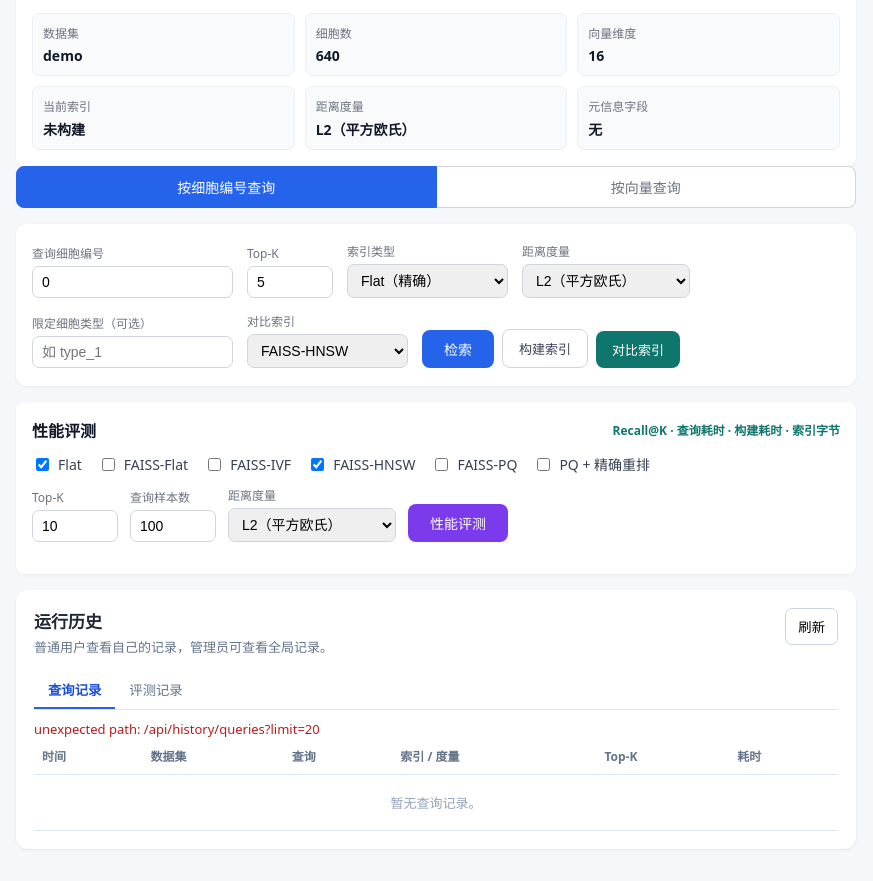
Test: App authentication gate › shows the paired PQ rerank recall, latency, and index-size tradeoff
(page scrolled)
Click the checkbox labelled "Flat": (42, 464) [36, 458, 49, 470]
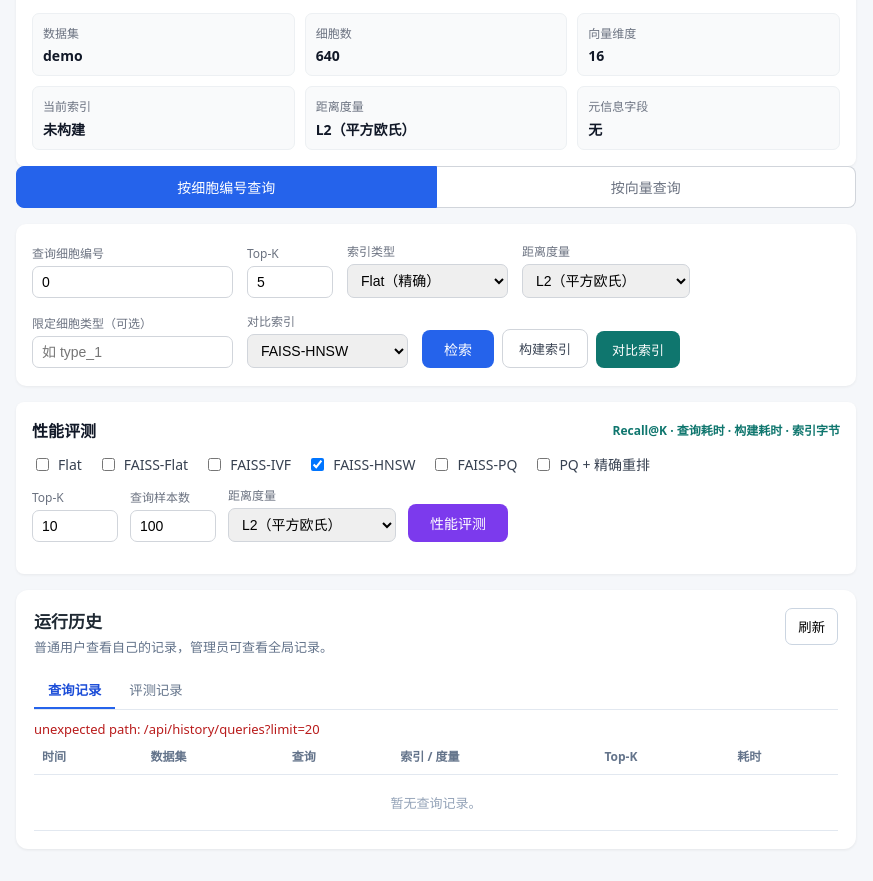
Click the checkbox labelled "FAISS-HNSW": (318, 464) [311, 458, 324, 470]
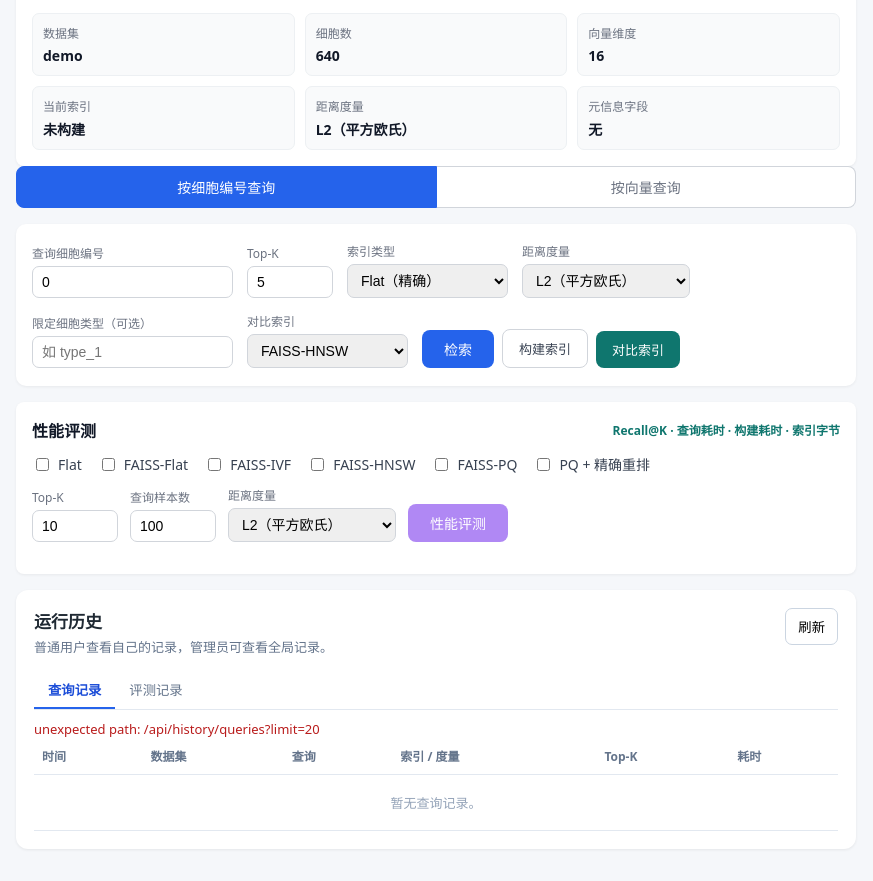
Click the checkbox labelled "FAISS-PQ": (442, 464) [435, 458, 448, 470]
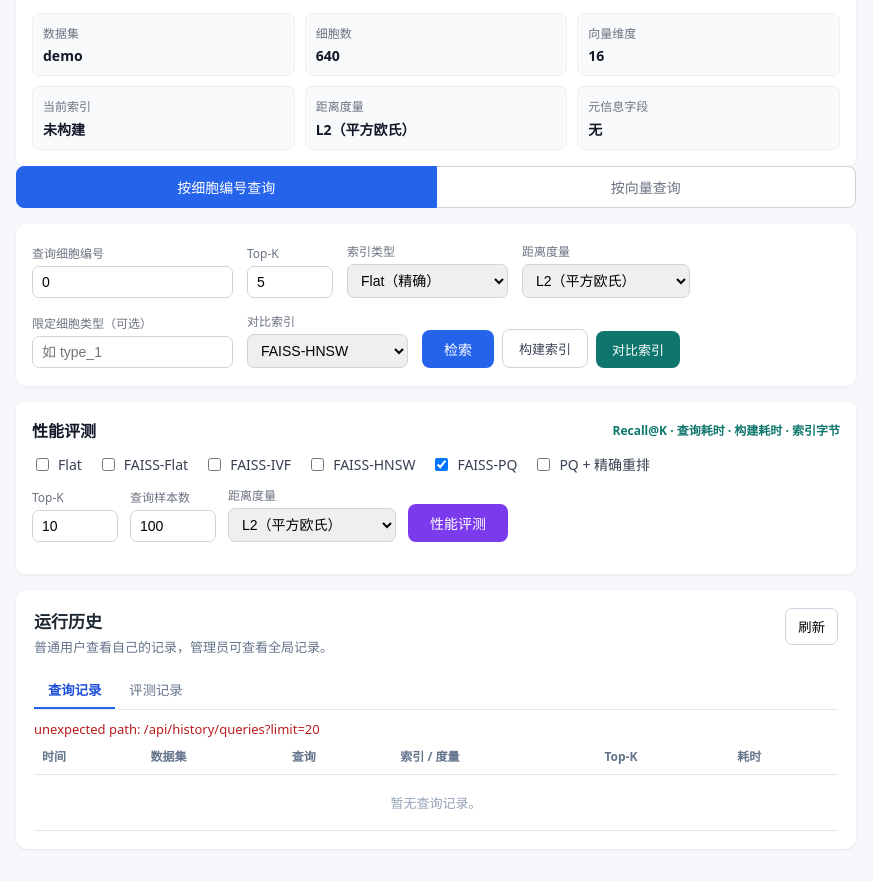
Click the checkbox labelled "PQ + 精确重排": (544, 464) [537, 458, 550, 470]
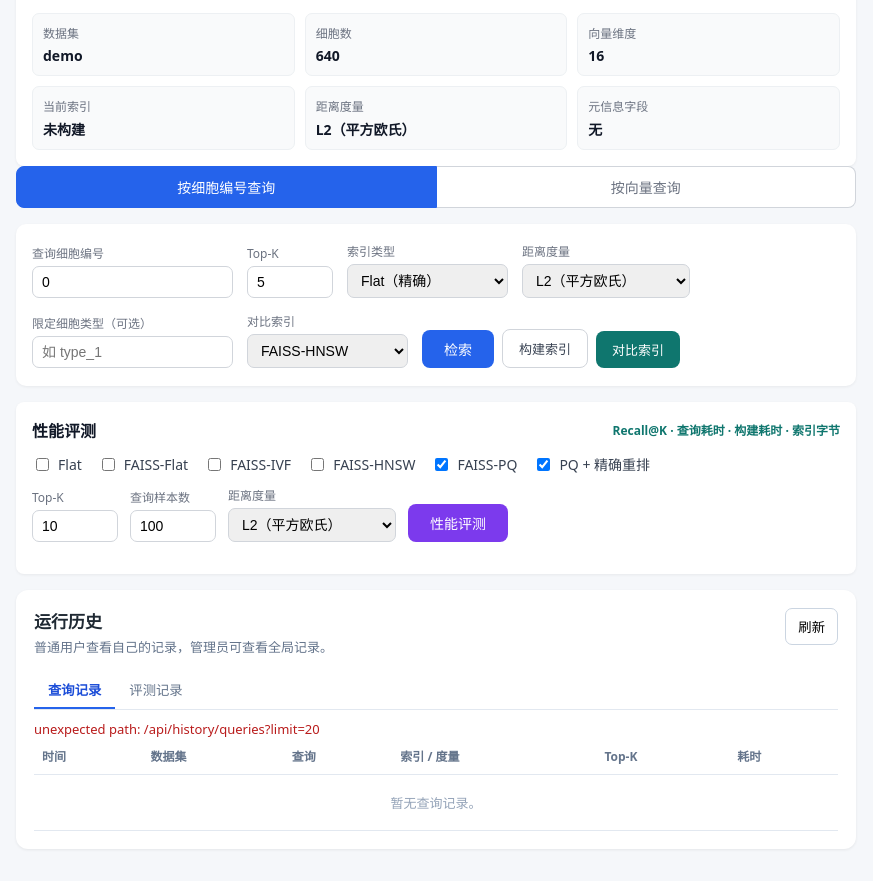
Click the button with class "btn-eval": (458, 523) [408, 504, 508, 542]
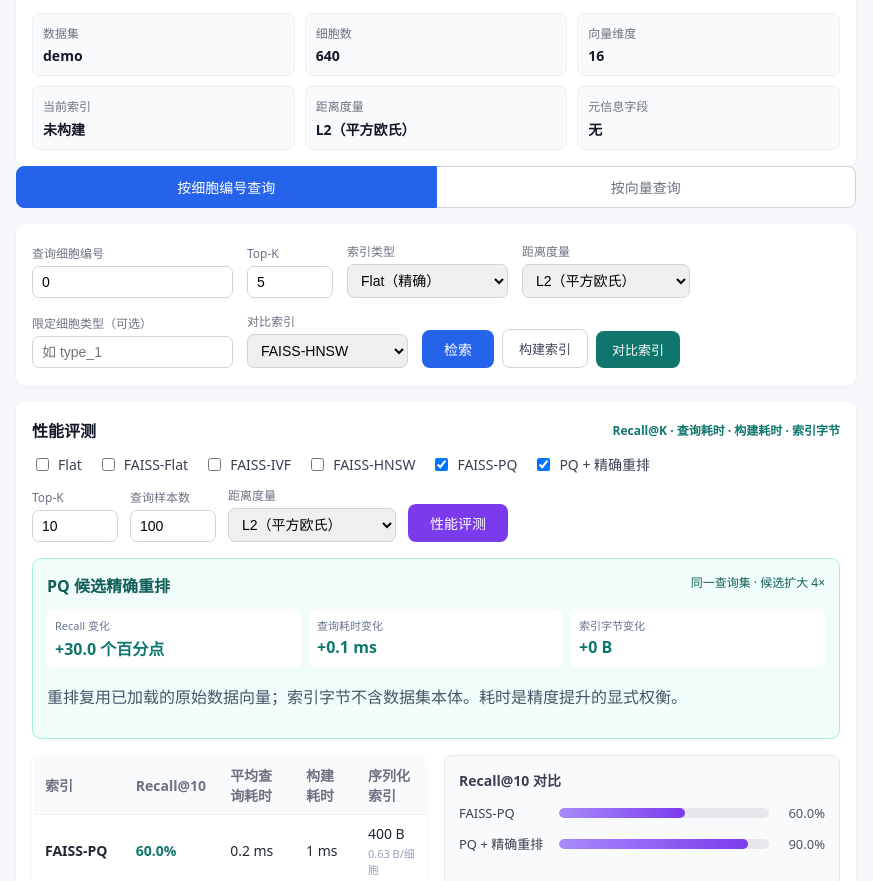
Now the text "PQ 候选精确重排" is shown, box [47, 573, 170, 597]
Now the text "+30.0 个百分点" is shown, box [55, 638, 164, 660]
Now the text "+0.1 ms" is shown, box [317, 636, 377, 658]
